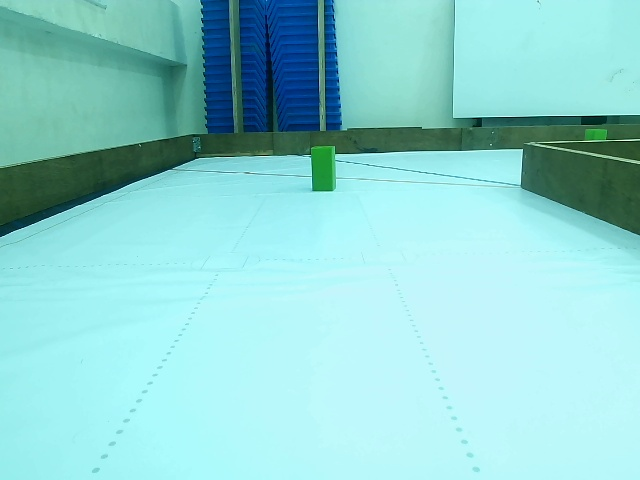green: (312, 147, 339, 193)
